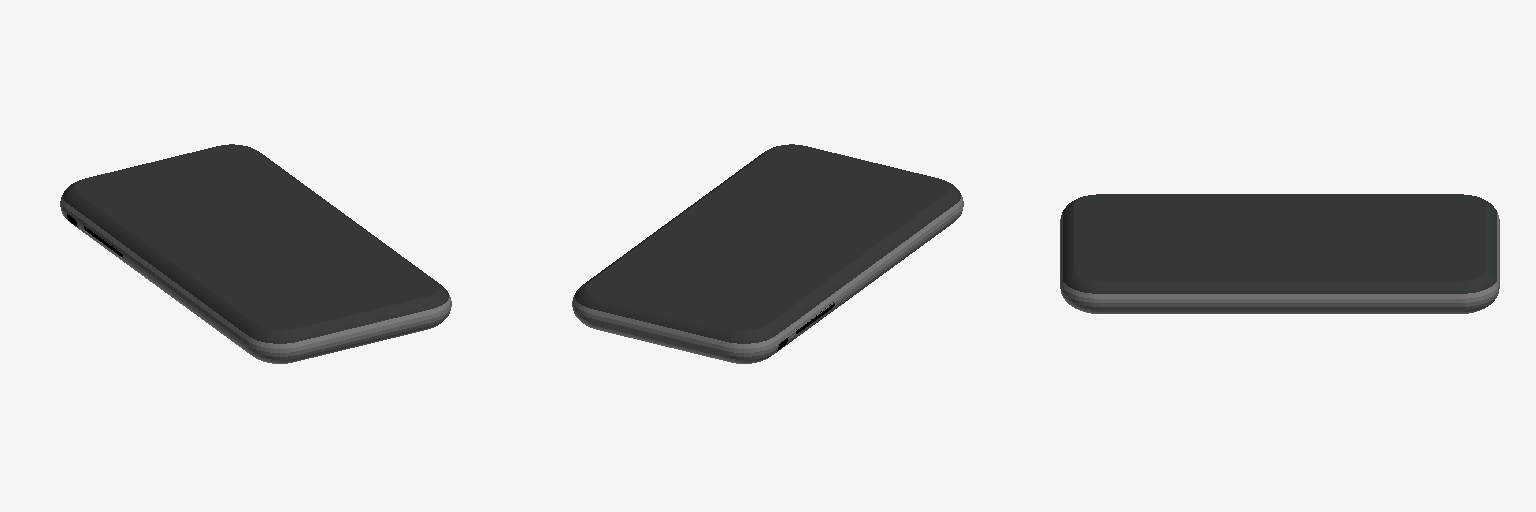
File: iPhone.obj
3 renders of one model, left to right at view 1: azimuth 30°, elevation 25°; view 2: azimuth 150°, elevation 25°; view 3: azimuth 270°, elevation 25°, orthographic.
Parts seen in each view (by area): view 1: Mesh1 Group1 ske1_1 Model; view 2: Mesh1 Group1 ske1_1 Model; view 3: Mesh1 Group1 ske1_1 Model.
Part boxes in pixels (bbox=[...]): Mesh1 Group1 ske1_1 Model: bbox=[60, 144, 451, 363]; Mesh1 Group1 ske1_1 Model: bbox=[572, 144, 963, 363]; Mesh1 Group1 ske1_1 Model: bbox=[1060, 194, 1499, 313].
Size of the model in its own units: 253 by 44.32 by 480.